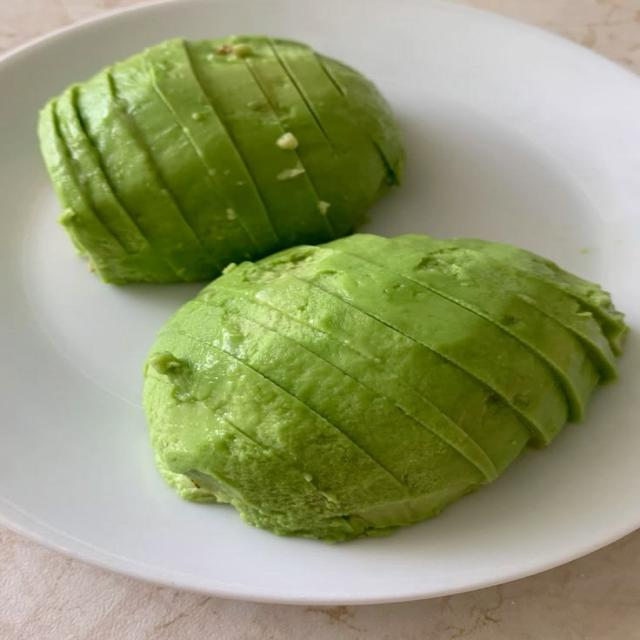avocado: (145, 237, 566, 540), (50, 36, 396, 282), (203, 265, 530, 471), (200, 276, 497, 480), (260, 247, 567, 444), (177, 305, 486, 497), (146, 304, 406, 510), (332, 235, 599, 420), (145, 353, 364, 540), (394, 235, 616, 381), (109, 55, 250, 279), (187, 40, 333, 245), (144, 40, 278, 256), (242, 37, 370, 236), (78, 71, 199, 281), (55, 85, 174, 281), (271, 39, 394, 204), (453, 239, 627, 354), (39, 100, 127, 282), (317, 55, 404, 183)
